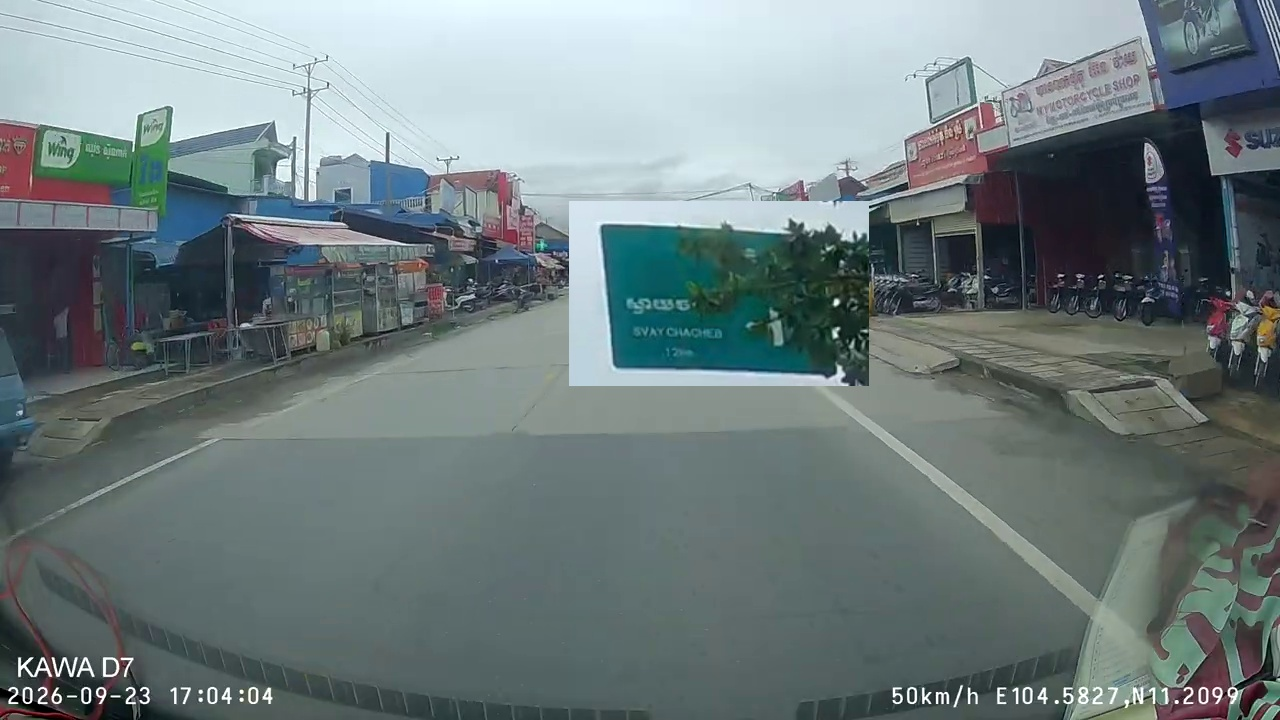direction_sign: (569, 201, 869, 386)
